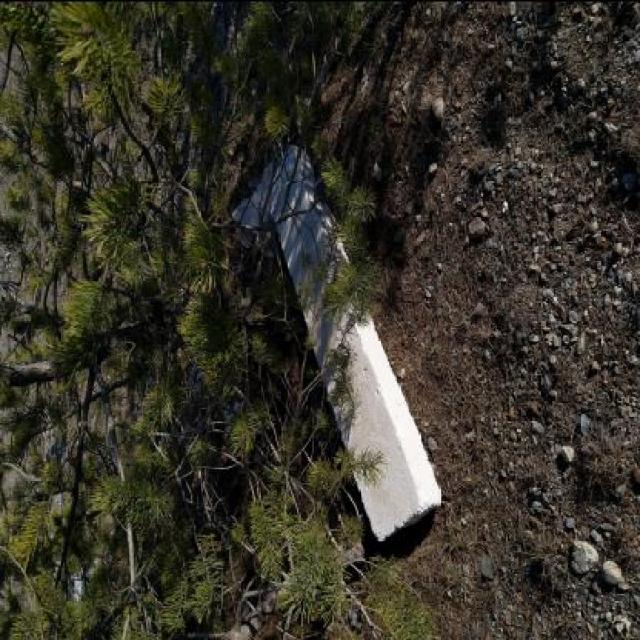foam: (269, 142, 442, 540)
